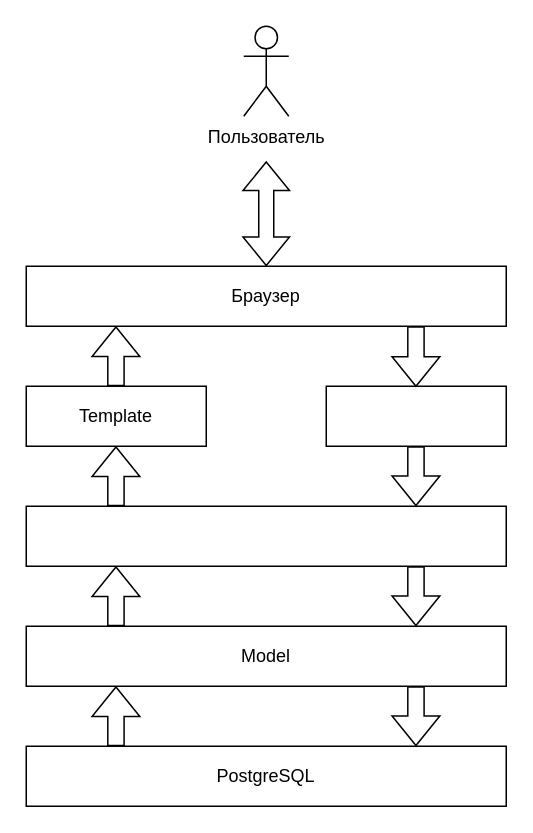
Image size: 533x833. Some labels were removed from this diagram. Here are the shapes that lost their labels. From the top down, the centre of each, then its label:
At pixel 415 415: "URL dispatcher".
At pixel 265 535: "View".
